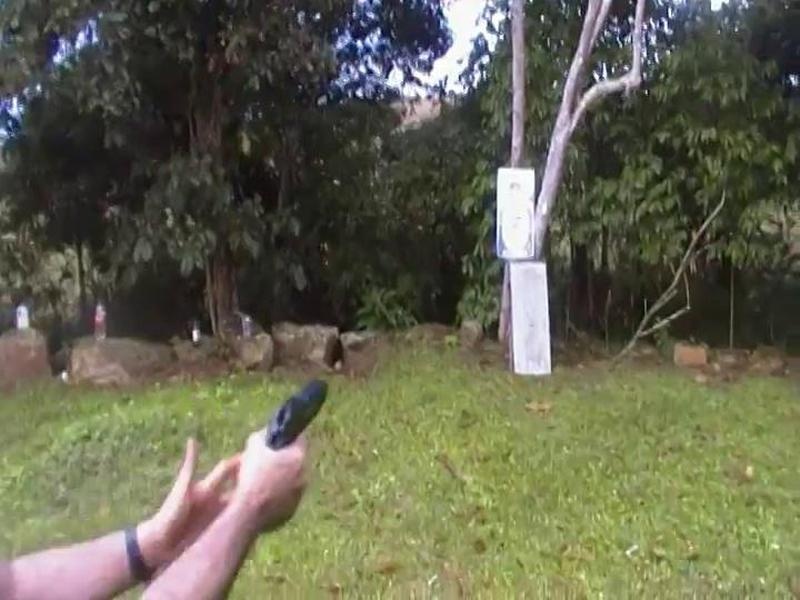Pistola: (243, 358, 362, 479)
